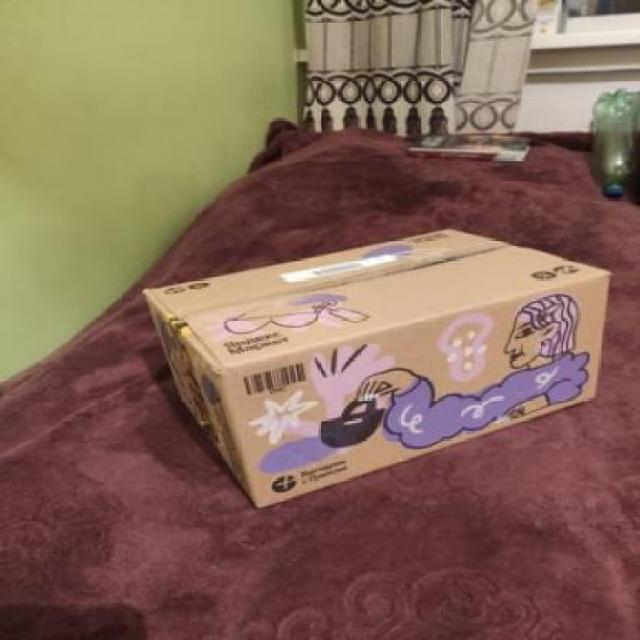box: (152, 216, 616, 515)
